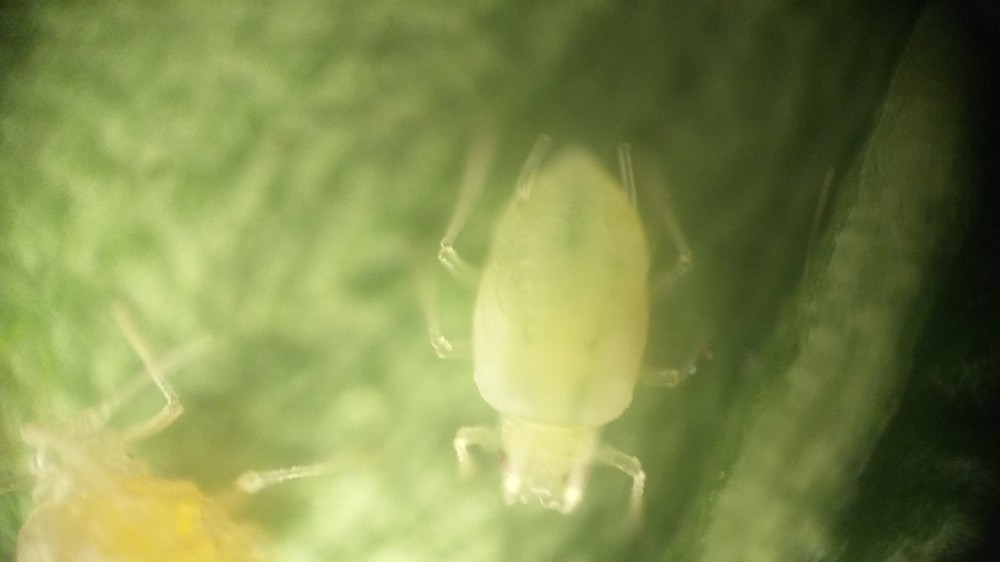Pulgon: (393, 127, 731, 520)
